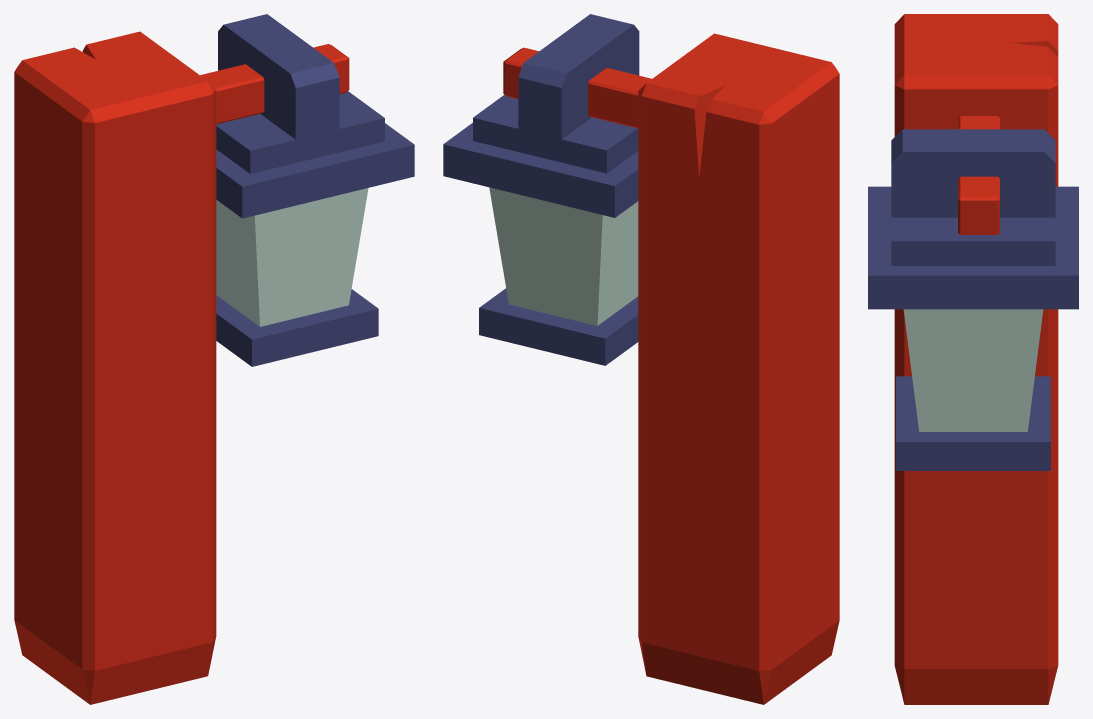
File: st_lamp.fbx
3 renders of one model, left to right at view 1: azimuth 30°, elevation 25°; view 2: azimuth 150°, elevation 25°; view 3: azimuth 270°, elevation 25°, orthographic. The views are drawn at different scales.
Parts seen in each view (by area): view 1: Cubo.046, Cubo.047, Cubo.048; view 2: Cubo.046, Cubo.047, Cubo.048; view 3: Cubo.046, Cubo.047, Cubo.048.
Boxes of the visible parts, <box> form: Cubo.046: <box>14,31,216,704</box>; Cubo.047: <box>216,14,414,366</box>; Cubo.048: <box>200,44,349,124</box>; Cubo.046: <box>638,33,839,704</box>; Cubo.047: <box>443,14,639,365</box>; Cubo.048: <box>503,47,651,128</box>; Cubo.046: <box>894,14,1058,704</box>; Cubo.047: <box>868,129,1078,470</box>; Cubo.048: <box>958,116,999,234</box>.
Size of the model in its own units: 233 by 419 by 127.
